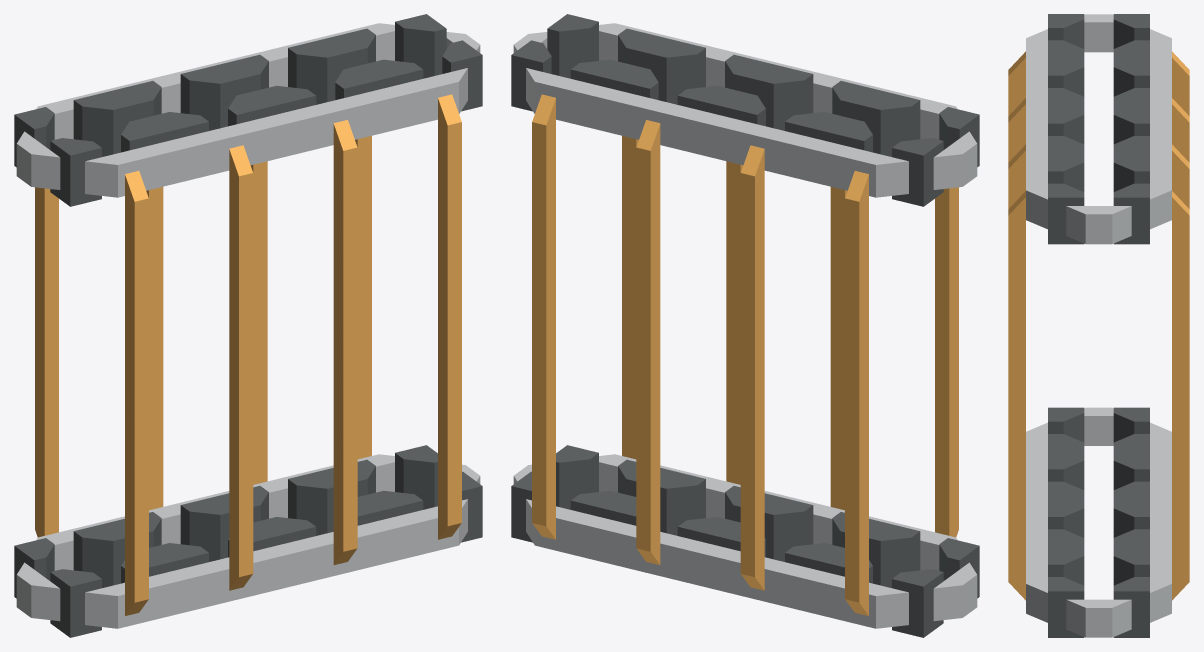
Rendered from Missile_box_002.glb.
3 views of the same model, side by side, from view 1: azimuth 30°, elevation 25°; view 2: azimuth 150°, elevation 25°; view 3: azimuth 270°, elevation 25° (orthographic). The views are drawn at different scales.
Parts seen in each view (by area): view 1: Missile_box_002; view 2: Missile_box_002; view 3: Missile_box_002.
Part boxes in pixels (x1,y1,x2,y2): Missile_box_002: (14, 14, 482, 637); Missile_box_002: (511, 14, 979, 637); Missile_box_002: (1008, 14, 1189, 637).
Size of the model in its own units: 0.8113 by 0.8328 by 0.3114.
Materials: 1 (1 with a texture image).
